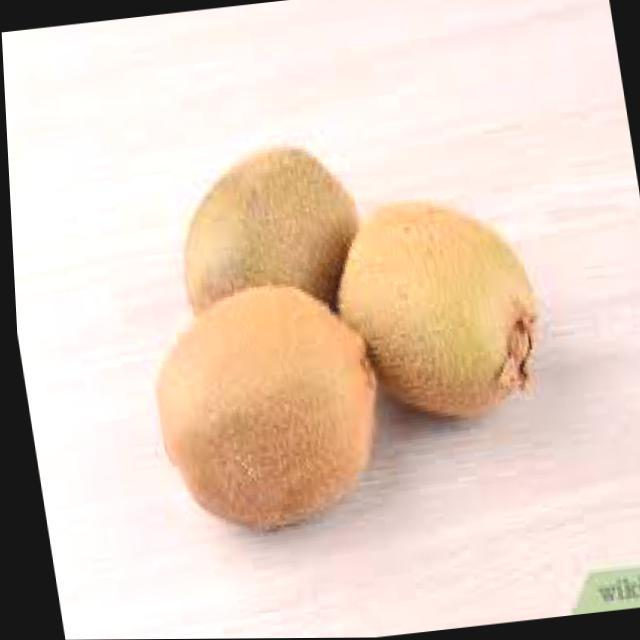kiwi: (133, 277, 386, 534), (319, 189, 548, 427), (157, 138, 373, 349)
